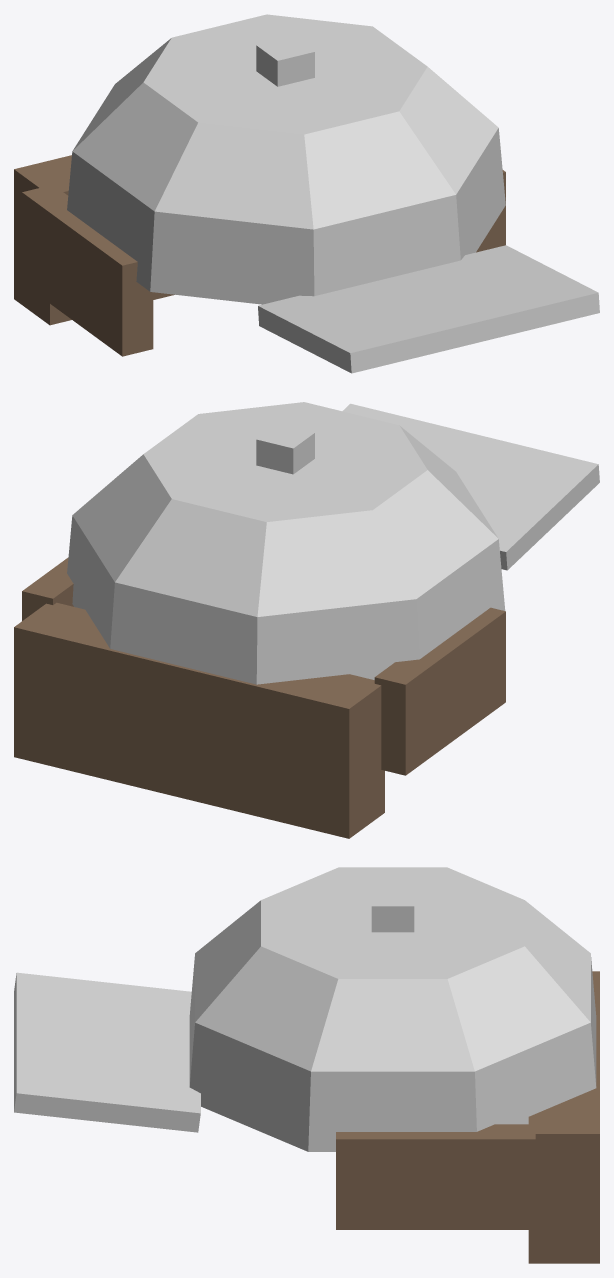
File: CharCap.fbx
3 renders of one model, top to bottom at view 1: azimuth 30°, elevation 25°; view 2: azimuth 150°, elevation 25°; view 3: azimuth 270°, elevation 25°, orthographic.
Parts seen in each view (by area): view 1: CharCap; view 2: CharCap; view 3: CharCap.
Boxes of the visible parts, x1=… form: CharCap: x1=14, y1=14, x2=599, y2=373; CharCap: x1=14, y1=402, x2=599, y2=838; CharCap: x1=14, y1=867, x2=599, y2=1263.
Size of the model in its own units: 0.309 by 0.22 by 0.4104.
